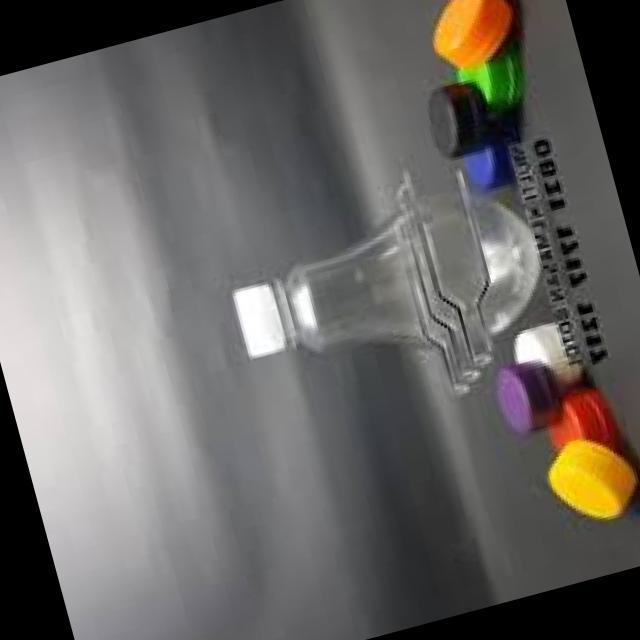good: (182, 138, 593, 434)
